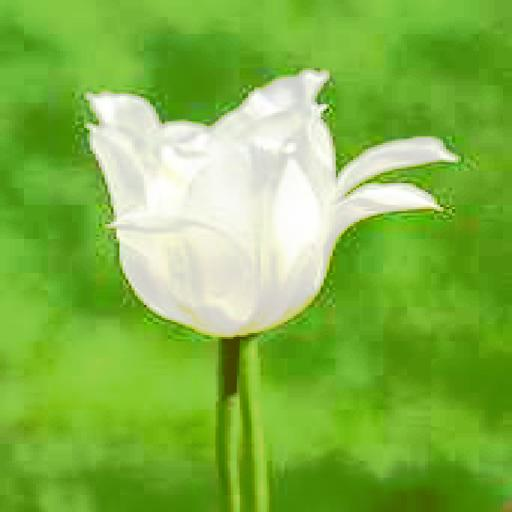tulip: (93, 72, 452, 335)
